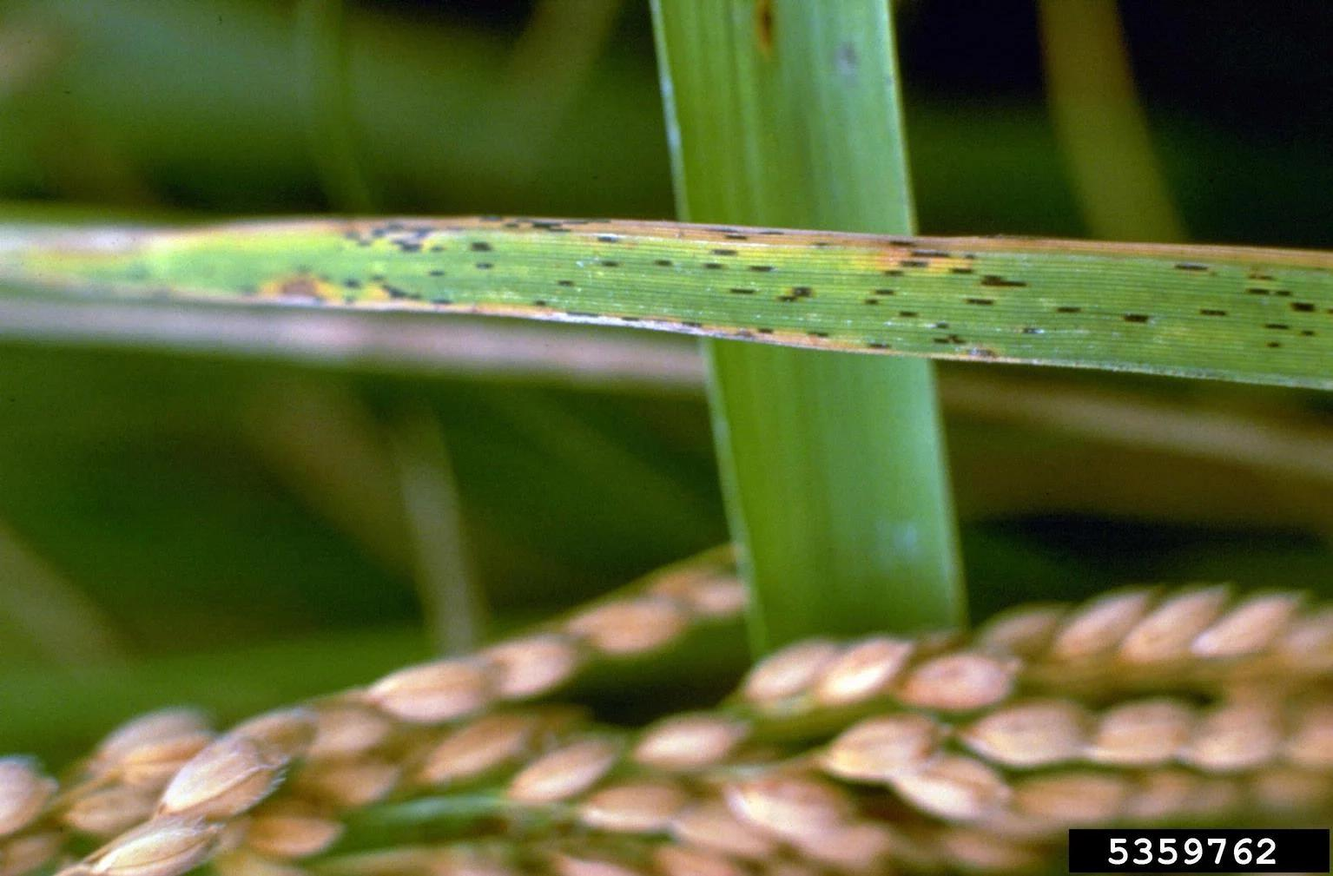Leaf Smut: (39, 217, 1333, 394)
